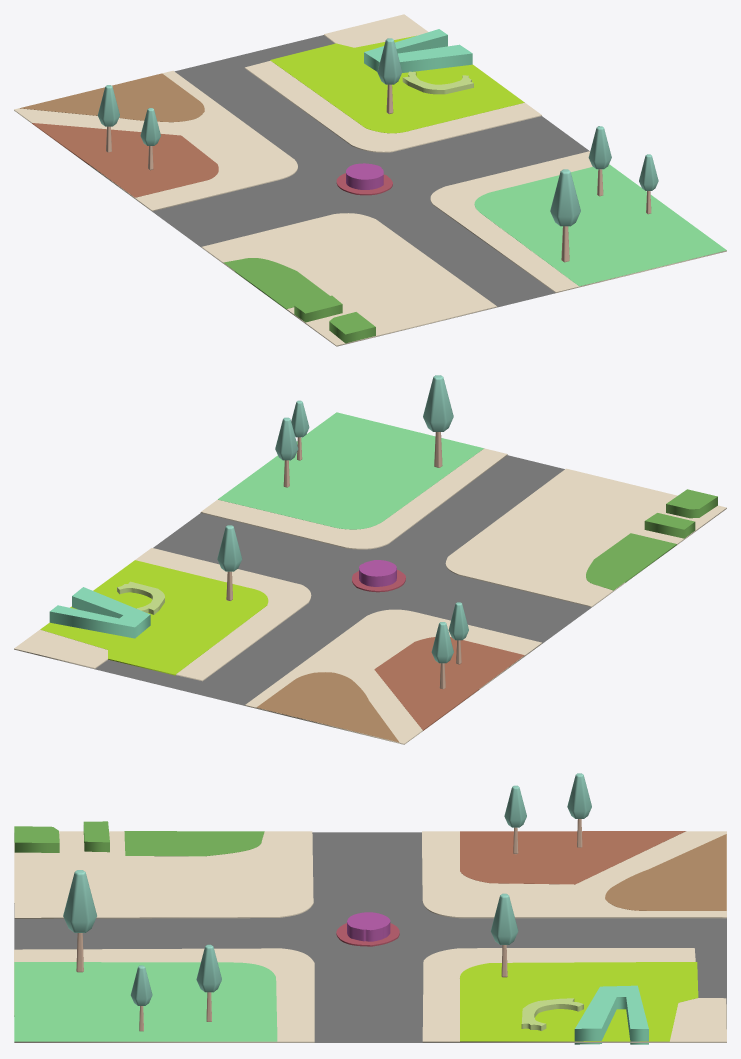
The model's file is little.glb.
The picture shows the model from 3 angles, top to bottom: view 1: azimuth 30°, elevation 25°; view 2: azimuth 150°, elevation 25°; view 3: azimuth 270°, elevation 25°; orthographic projection. The views are drawn at different scales.
Visible parts, largest first — view 1: path850, path4741, path5321, path5316, path5294, path5307, path5297, path5318, path5299, path5291, path5313, Mesh_tree_large.004 (+8 smaller); view 2: path850, path4741, path5321, path5316, path5294, path5307, path5297, path5318, path5299, path5313, path5291, Mesh_tree_large.004 (+7 smaller); view 3: path850, path4741, path5321, path5316, path5294, path5307, path5297, path5318, path5299, path5291, path5313, Mesh_tree_large.004 (+10 smaller).
Boxes of the visible parts, left/top/right/bottom form: path850: left=18, top=35, right=725, bottom=343; path4741: left=201, top=213, right=497, bottom=346; path5321: left=474, top=164, right=726, bottom=286; path5316: left=270, top=35, right=524, bottom=133; path5294: left=14, top=70, right=297, bottom=211; path5307: left=244, top=14, right=541, bottom=152; path5297: left=32, top=123, right=218, bottom=197; path5318: left=430, top=151, right=726, bottom=292; path5299: left=20, top=73, right=204, bottom=122; path5291: left=223, top=258, right=329, bottom=309; path5313: left=364, top=29, right=472, bottom=72; Mesh_tree_large.004: left=550, top=169, right=580, bottom=226; path850: left=23, top=455, right=723, bottom=744; path4741: left=445, top=468, right=726, bottom=607; path5321: left=218, top=412, right=483, bottom=529; path5316: left=40, top=560, right=268, bottom=675; path5294: left=245, top=609, right=542, bottom=744; path5307: left=14, top=548, right=311, bottom=681; path5297: left=374, top=637, right=524, bottom=730; path5318: left=200, top=448, right=507, bottom=549; path5299: left=256, top=672, right=399, bottom=742; path5313: left=49, top=587, right=150, bottom=638; path5291: left=586, top=533, right=676, bottom=590; Mesh_tree_large.004: left=423, top=375, right=453, bottom=431; path850: left=14, top=832, right=726, bottom=1042; path4741: left=14, top=831, right=313, bottom=918; path5321: left=14, top=962, right=277, bottom=1041; path5316: left=460, top=962, right=698, bottom=1041; path5294: left=422, top=831, right=726, bottom=918; path5307: left=422, top=948, right=726, bottom=1042; path5297: left=460, top=831, right=685, bottom=884; path5318: left=14, top=948, right=314, bottom=1042; path5299: left=605, top=834, right=726, bottom=910; path5291: left=124, top=831, right=264, bottom=856; path5313: left=574, top=985, right=648, bottom=1044; Mesh_tree_large.004: left=63, top=870, right=96, bottom=932.
Bounding box in the file's own units: 3.46 × 0.859 × 4.96.
